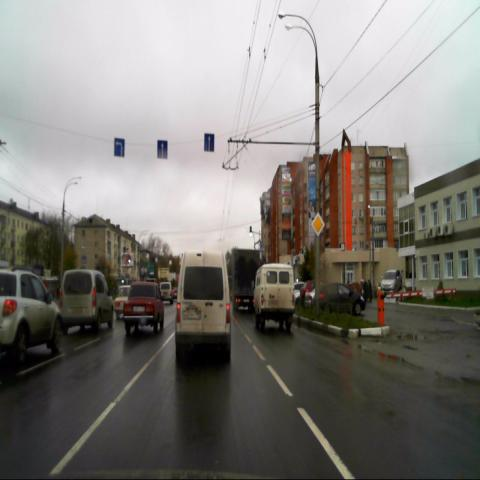2_1: (311, 212, 325, 237)
